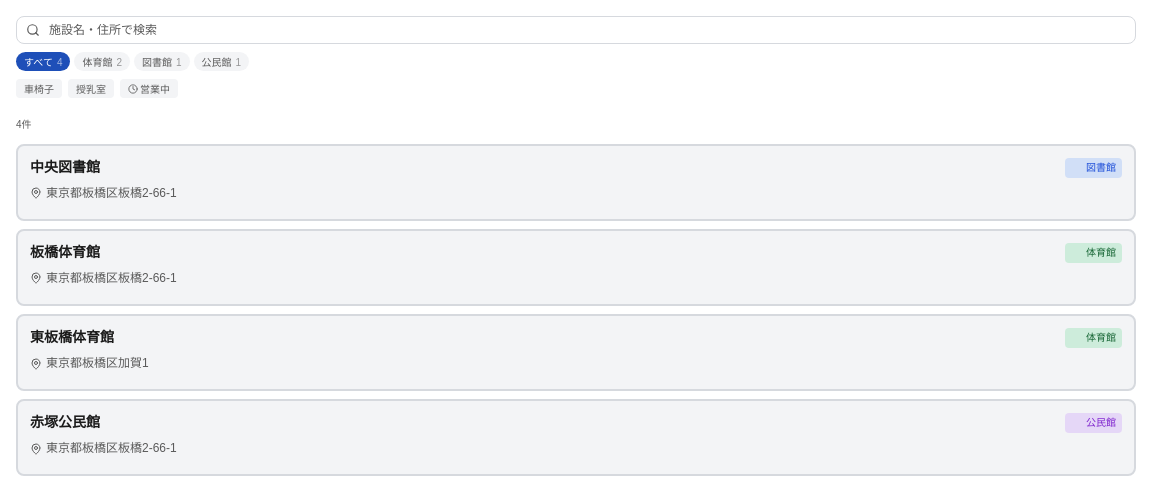
Test: FacilityList › filters by text search
Type "体育館" into the field with test id "facility-search-input" at (576, 30), box [16,16,1136,44]
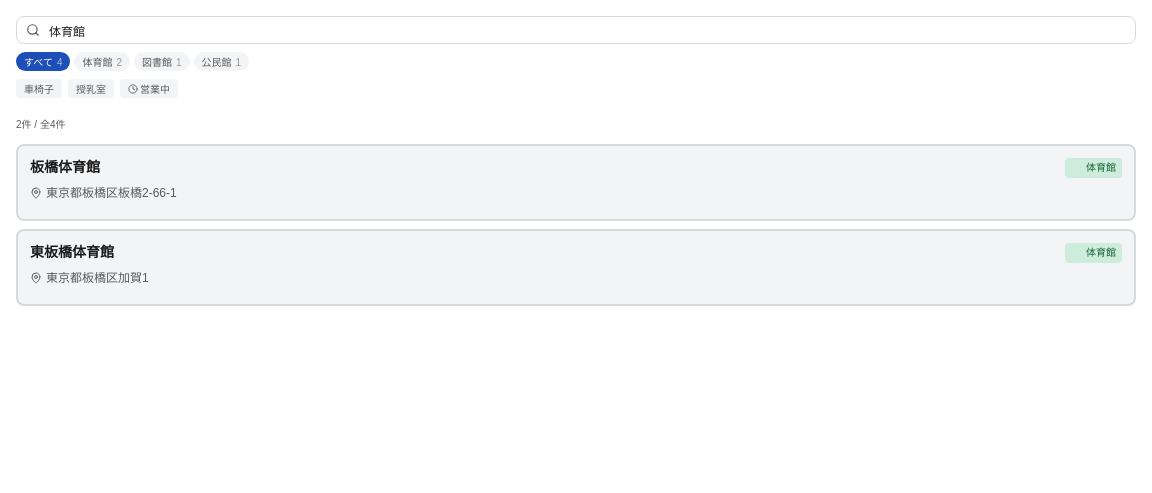
Check: the heading "板橋体育館" is shown, box [30,158,100,176]
Check: the button "中央図書館" is gone
Check: the button "赤塚公民館" is gone
